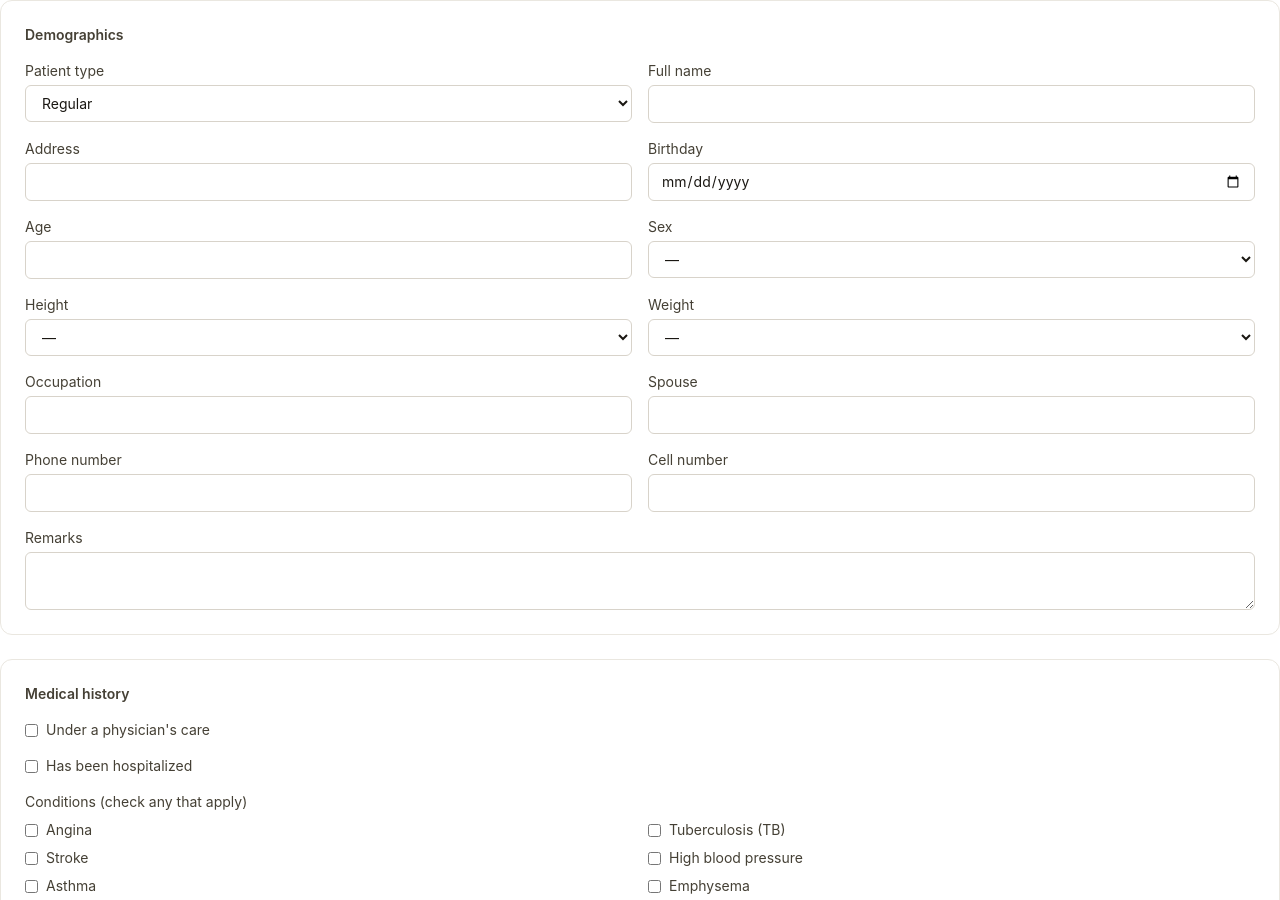
PatientForm › only asks for physician details once care is declared
expect the field labelled "physician name" is not shown: met
Click the checkbox labelled "Under a physician's care".
click(32, 730)  # box 25,724 -> 38,736
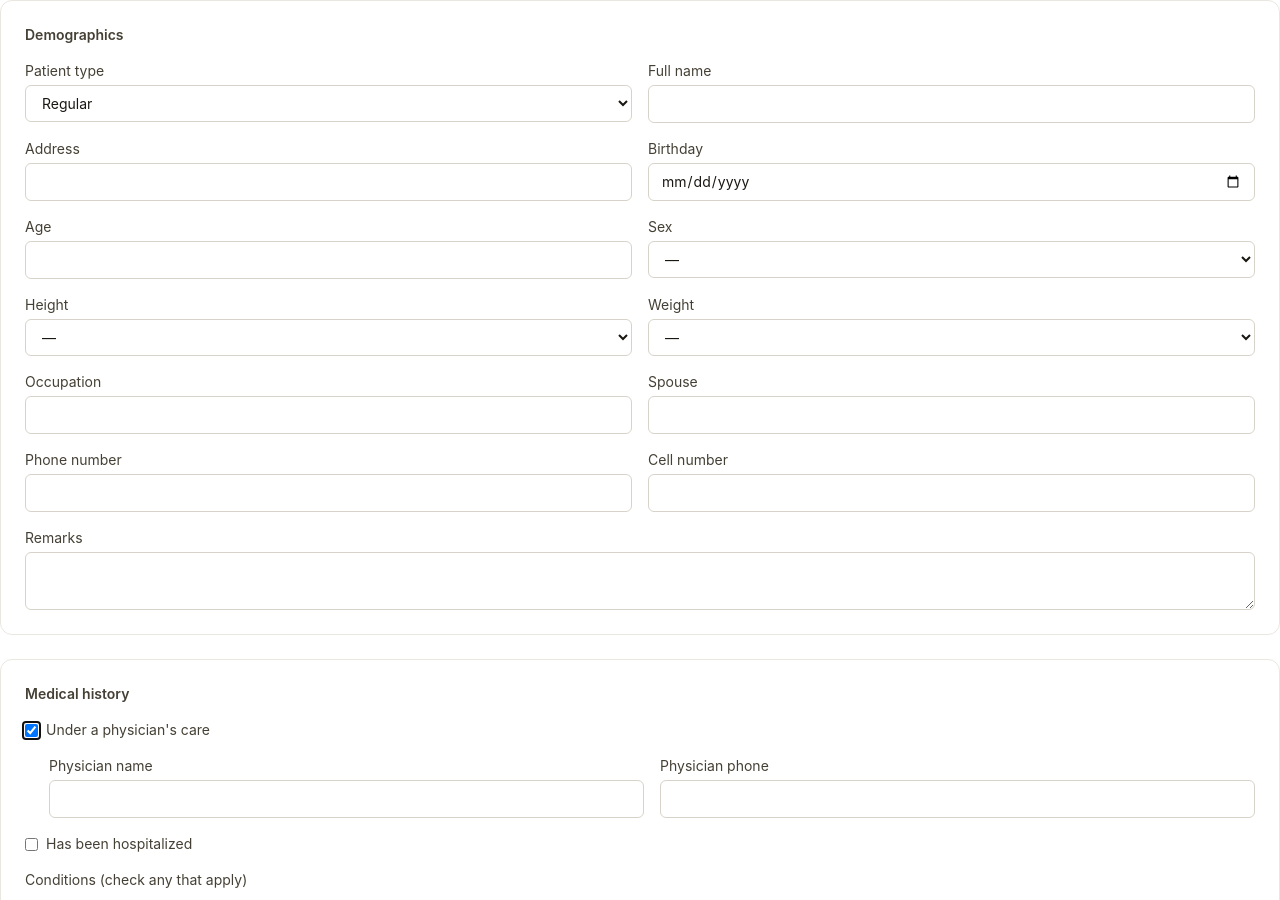
expect the field labelled "Physician name" is shown: met, box 49,780 -> 644,818
